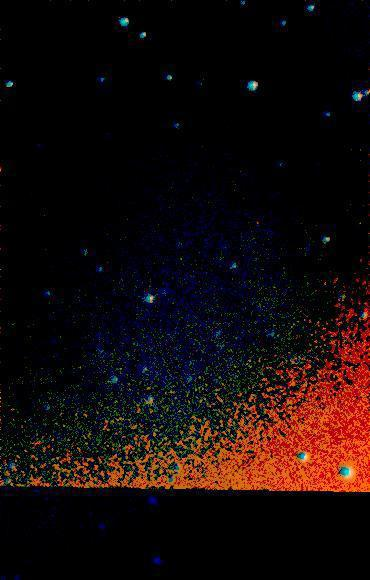star: (164, 252, 194, 282)
